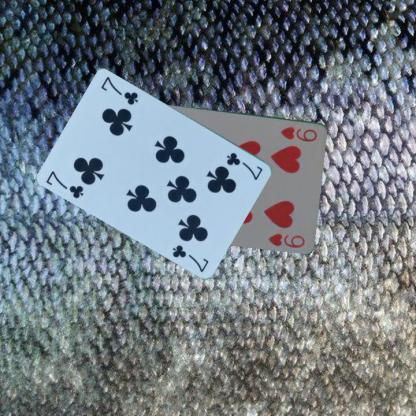7c: (44, 167, 86, 200), (224, 150, 264, 181)
9h: (278, 124, 319, 142)
